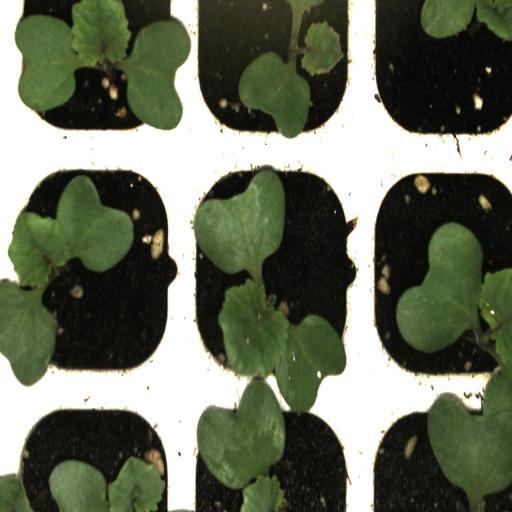Folha: (49, 456, 165, 512), (420, 0, 512, 42)
Germinacao: (4, 152, 184, 388), (186, 157, 363, 388), (361, 154, 512, 392), (5, 1, 185, 156), (185, 0, 362, 151)
